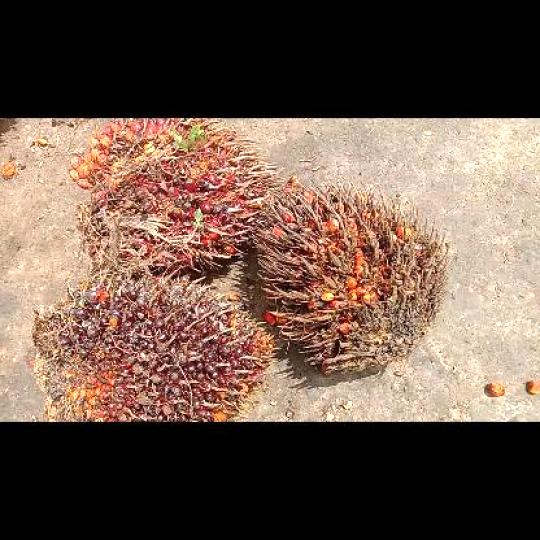kurang masak: (30, 278, 271, 420)
masak: (69, 118, 276, 279)
terlalu masak: (254, 179, 444, 374)
